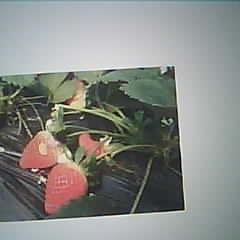straw-ripe: (45, 162, 88, 213), (20, 131, 58, 170)
